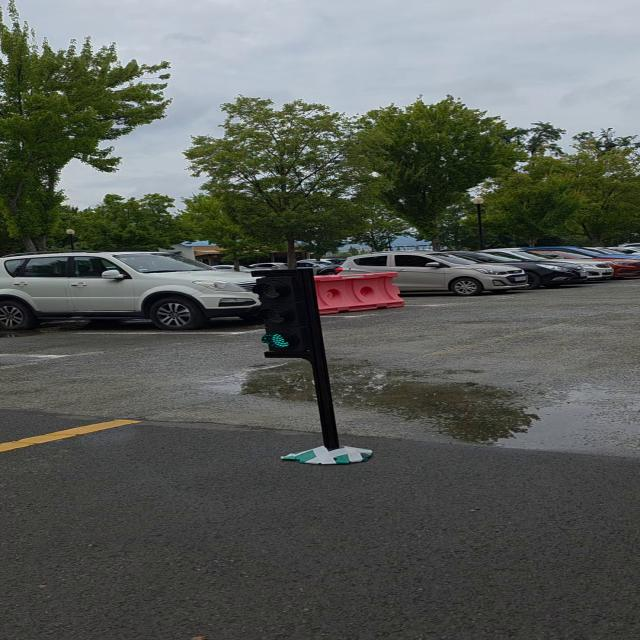green: (255, 272, 321, 358)
